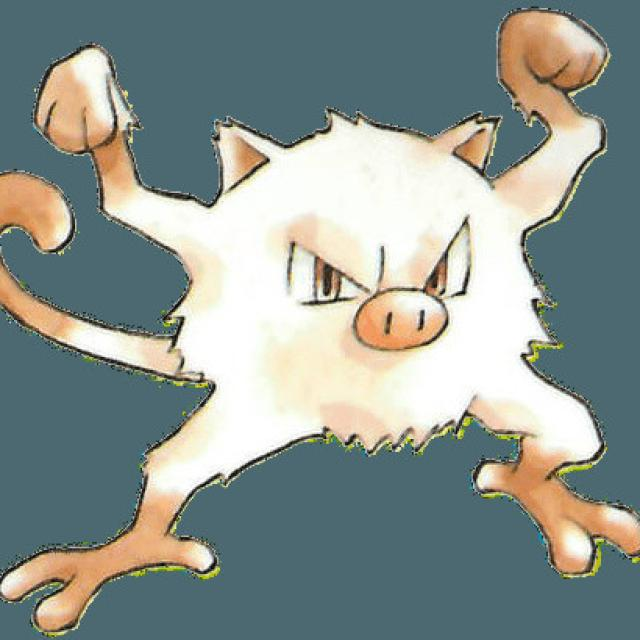Mankey: (69, 52, 602, 584)
